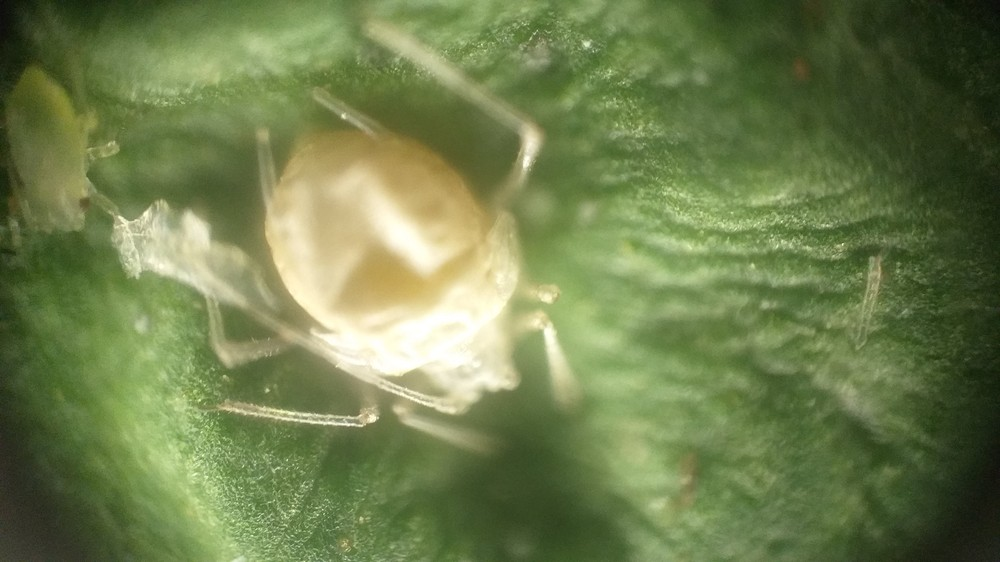Pulgon: (191, 33, 641, 474), (1, 43, 140, 267)
